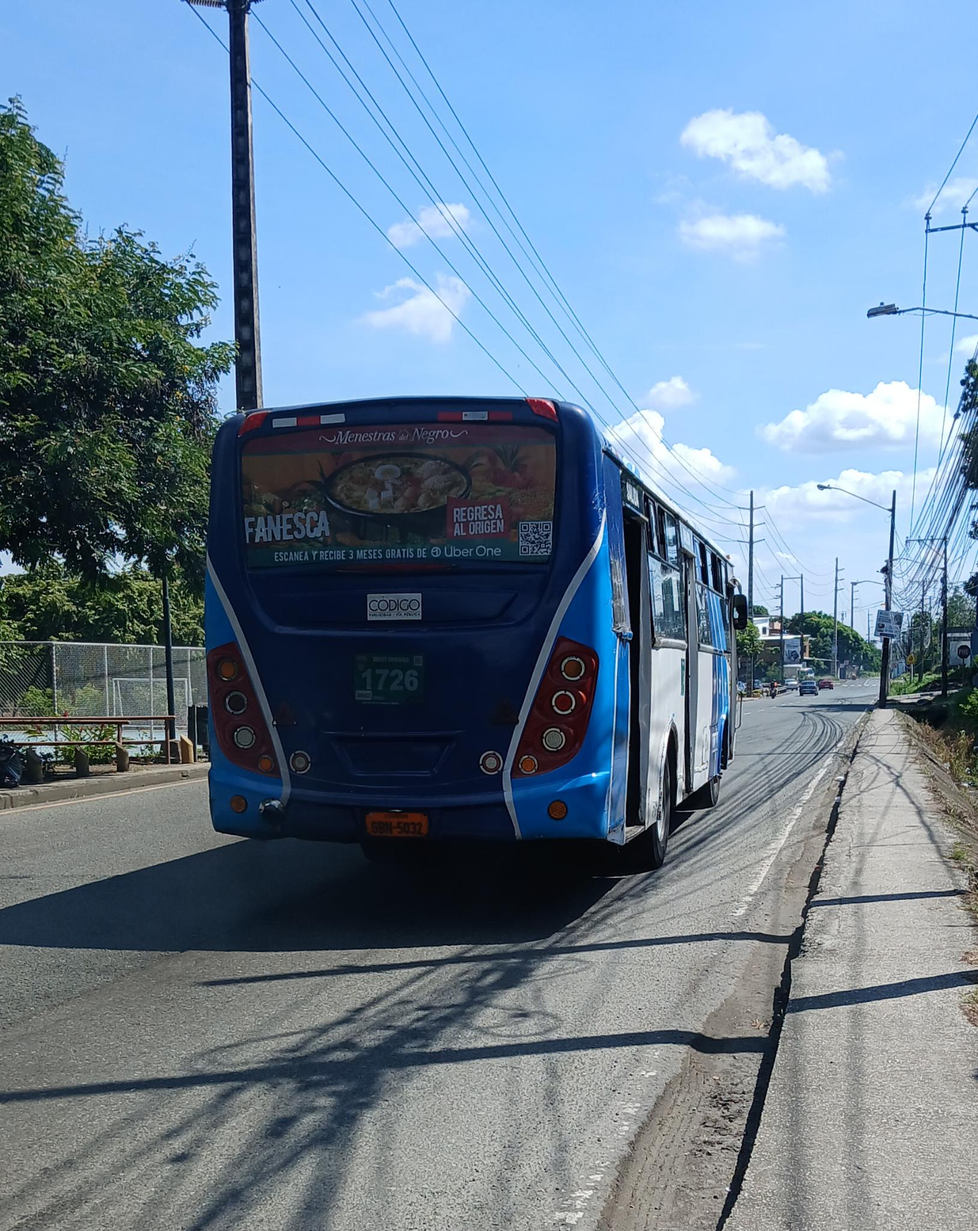license_plate: (366, 813, 429, 837)
